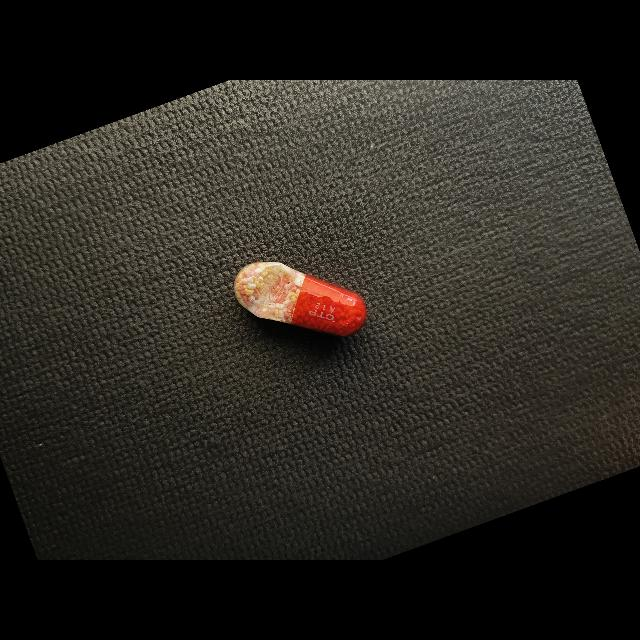Defective Capsule: (234, 262, 367, 336)
